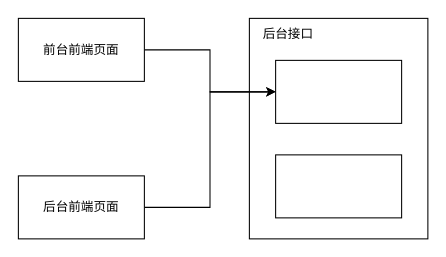
Some shapes in this 446 by 257 pixel diagram are drawn without their labels. The centre of each missing label's shape, as x and y in pixels:
Flask: (338,91)
Flask-Celery: (338,186)
